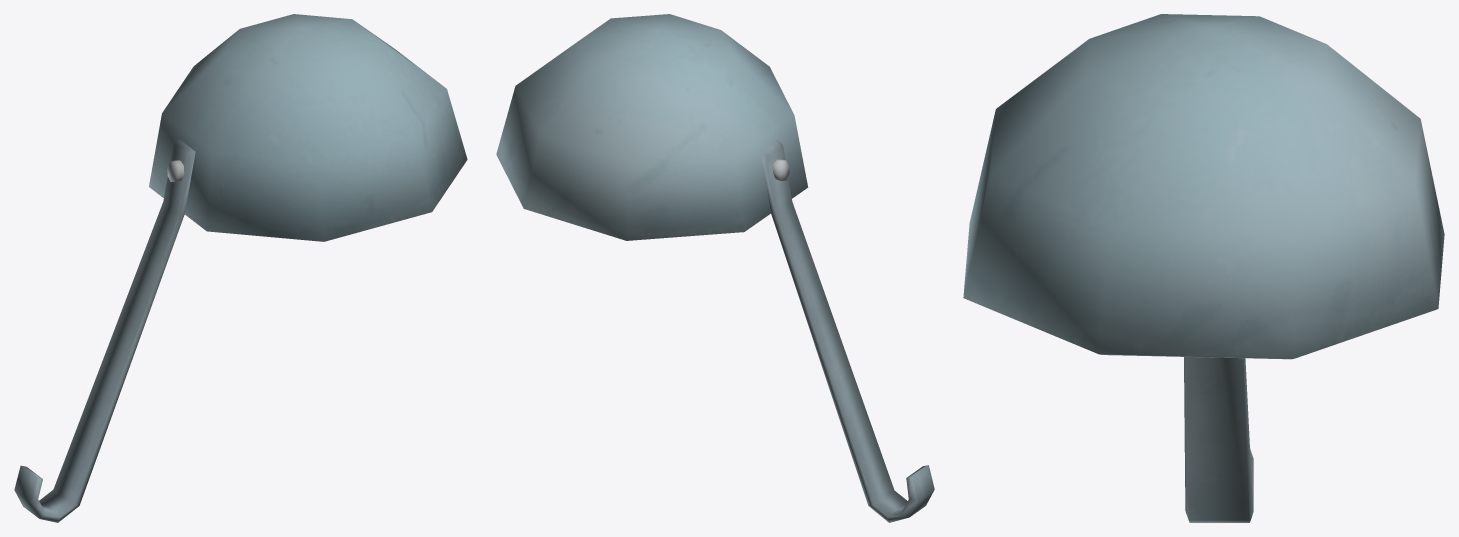
Rendered from spoon.glb.
3 views of the same model, side by side, from view 1: azimuth 30°, elevation 25°; view 2: azimuth 150°, elevation 25°; view 3: azimuth 270°, elevation 25° (orthographic). The views are drawn at different scales.
Visible parts, largest first — view 1: Hat_Spoon; view 2: Hat_Spoon; view 3: Hat_Spoon.
Boxes of the visible parts, x1,y1,x2,y2 form: Hat_Spoon: [14, 14, 467, 522]; Hat_Spoon: [496, 14, 934, 522]; Hat_Spoon: [963, 14, 1444, 522].
Size of the model in its own units: 1.16 by 1.15 by 0.7309.
Materials: 1 (1 with a texture image).
